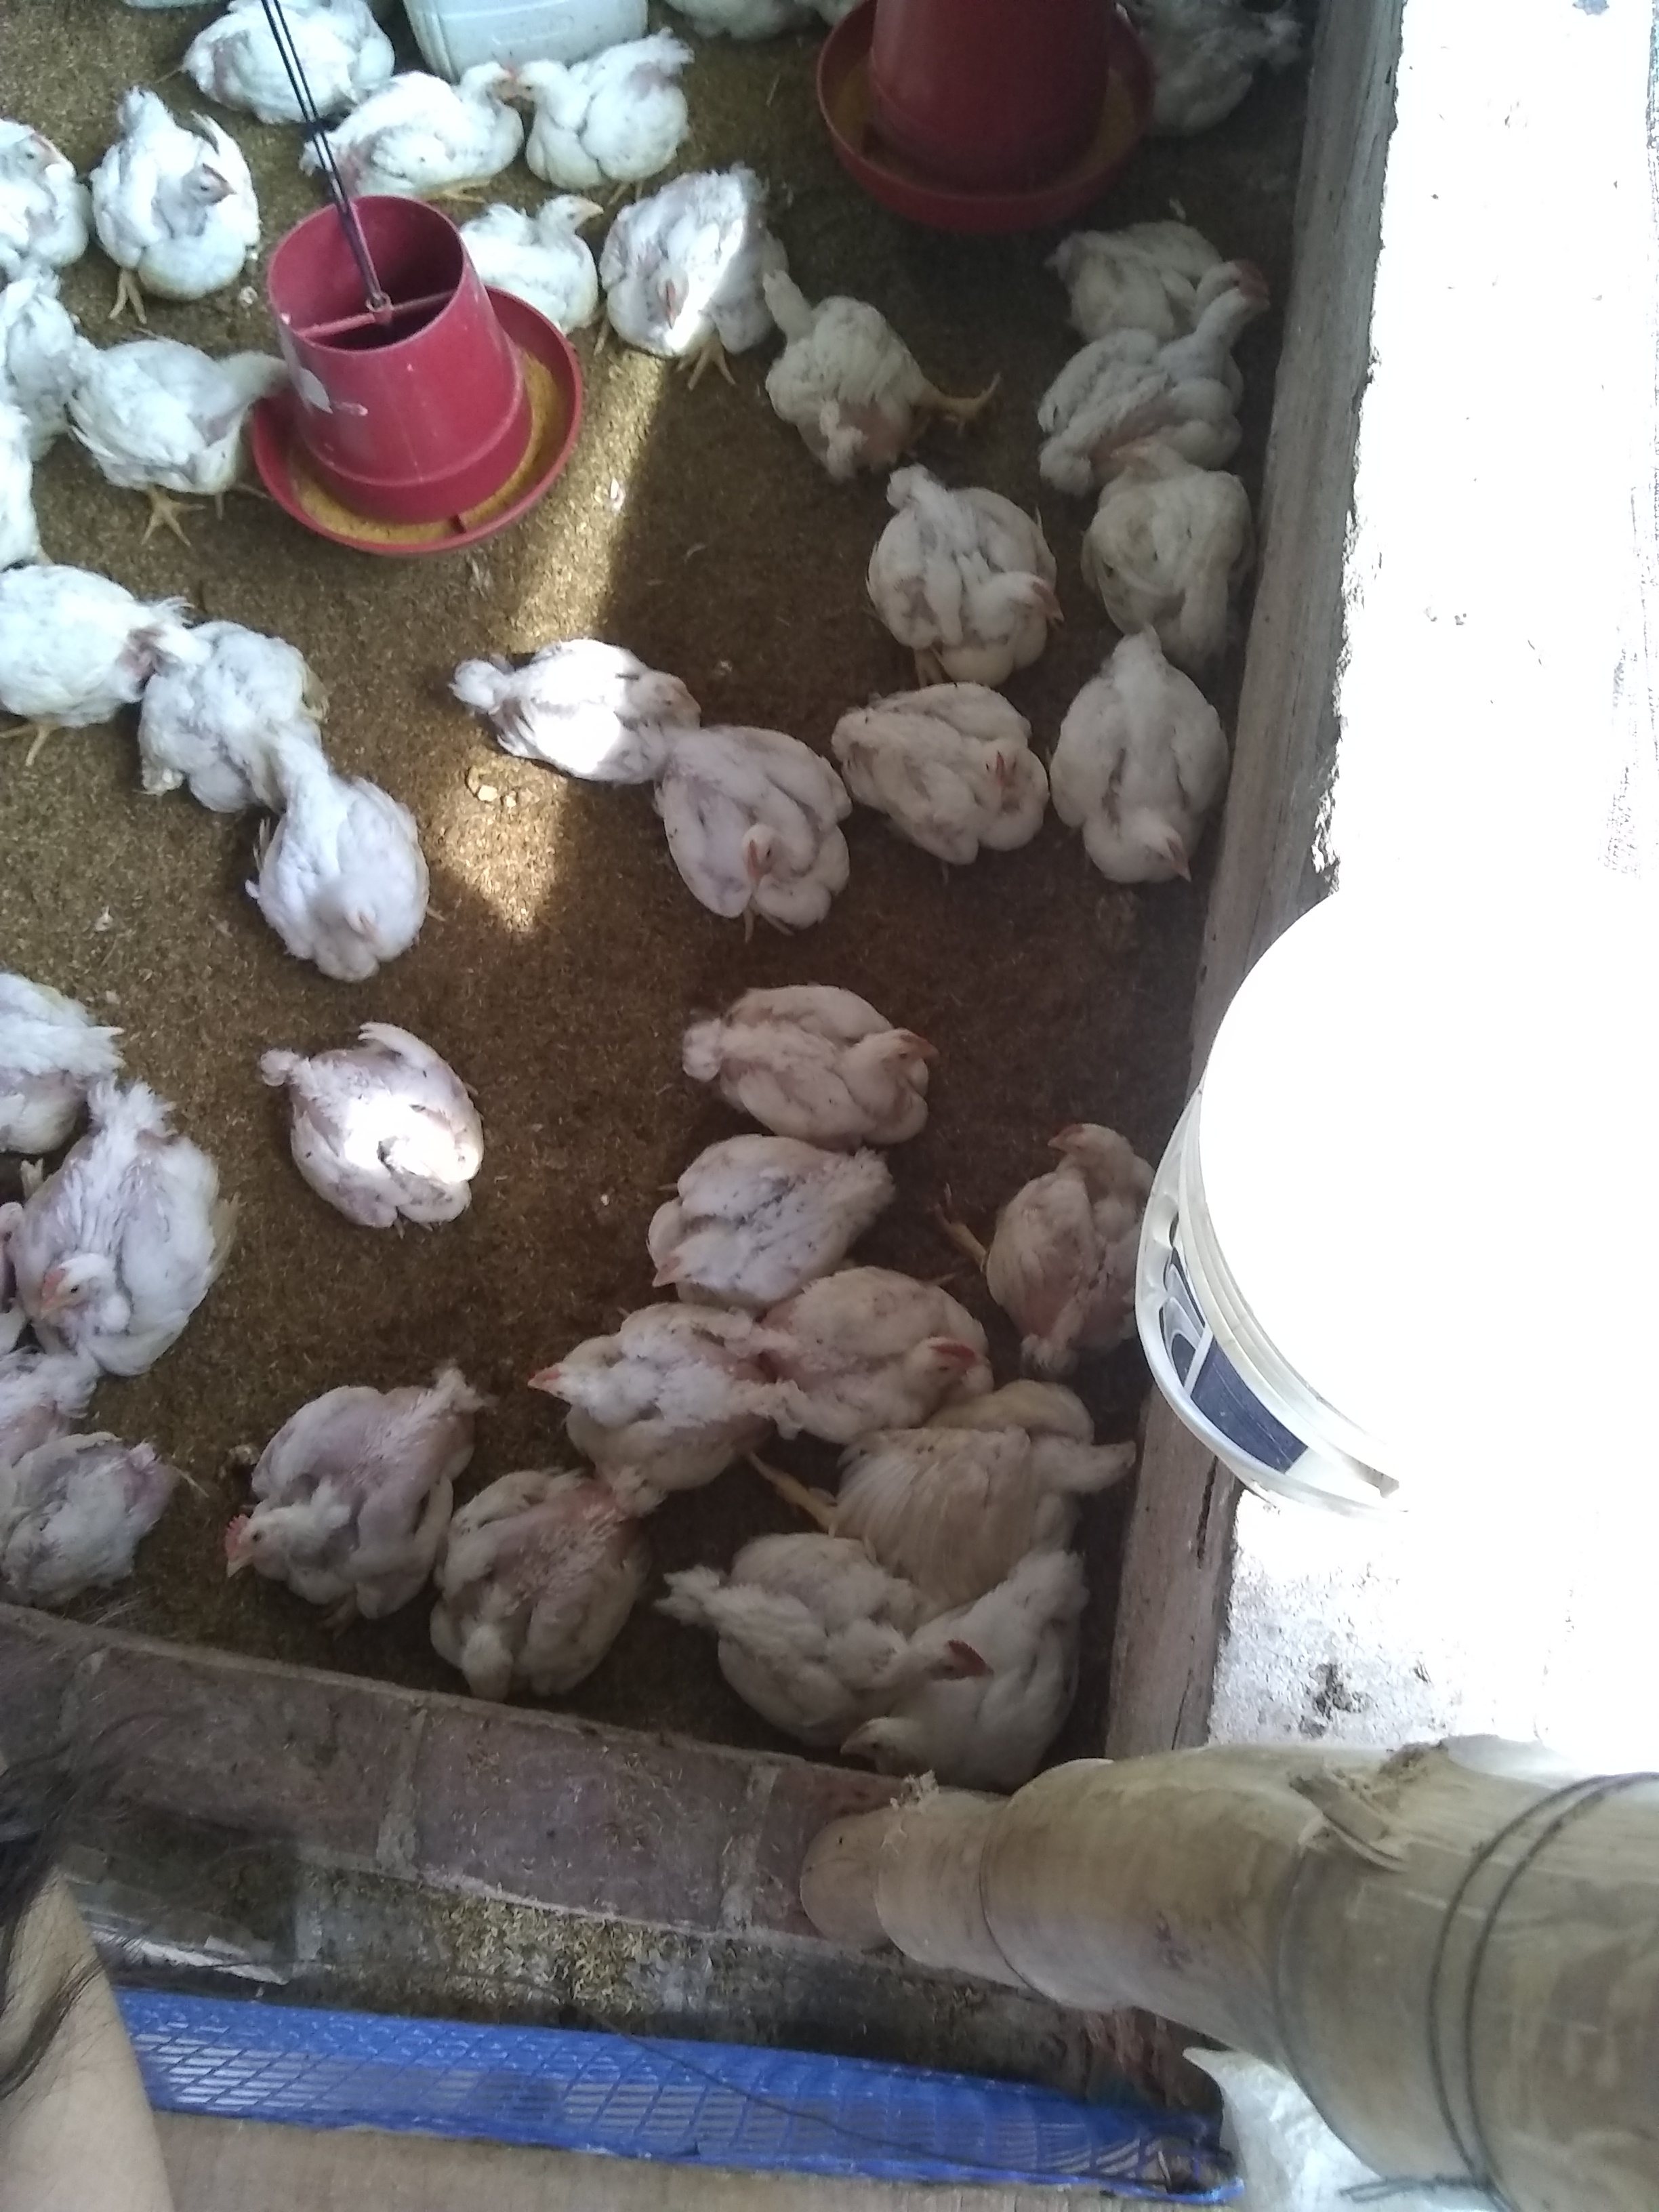Pollos: (221, 1362, 495, 1616), (17, 1082, 232, 1357), (415, 1472, 683, 1691), (523, 1299, 784, 1489), (33, 303, 288, 496), (730, 1536, 986, 1719), (270, 1022, 495, 1228), (253, 733, 430, 979), (1058, 627, 1227, 874), (640, 1125, 884, 1296), (694, 977, 943, 1139), (983, 1120, 1140, 1372), (1046, 280, 1293, 430), (887, 470, 1065, 671), (664, 732, 845, 925), (791, 1268, 993, 1439), (760, 266, 931, 453), (1084, 442, 1258, 613), (603, 174, 762, 361), (106, 617, 288, 773), (98, 110, 260, 280), (861, 686, 1046, 834), (333, 49, 519, 195), (523, 19, 685, 181), (964, 1381, 1147, 1524), (504, 637, 699, 763), (2, 110, 84, 266), (486, 183, 606, 289)
